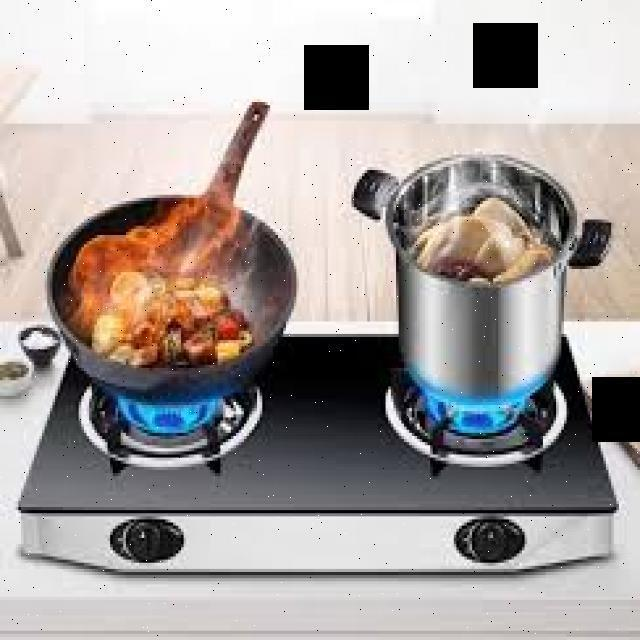Flame: (118, 400, 227, 440), (422, 399, 540, 435)
Pan: (358, 144, 609, 404), (46, 195, 296, 405)
